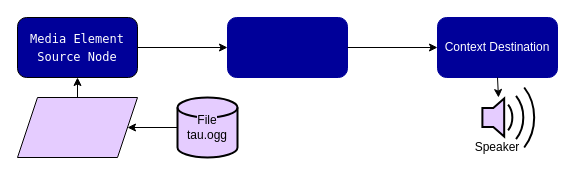
The diagram is 575 pixels wide and 176 high, and some of its shapes have lost their labels. Each missing label, with the centre of its shape:
"Gain Node" belongs at pixel 287 47.
"Media Element" belongs at pixel 77 127.
